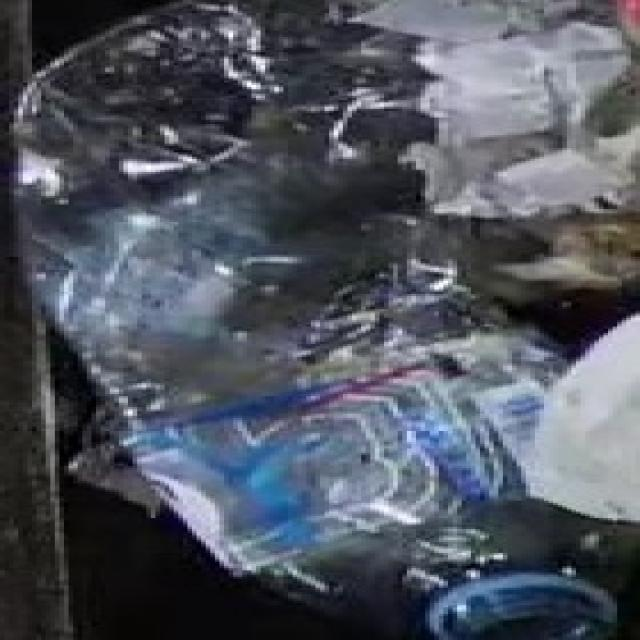litter: (4, 0, 636, 640)
